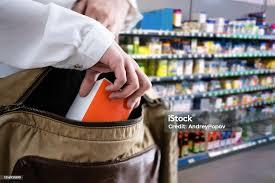shoplifting: (4, 6, 182, 166)
